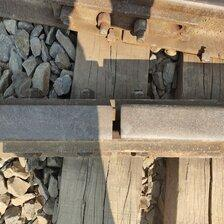railway-gap: (92, 103, 139, 147)
